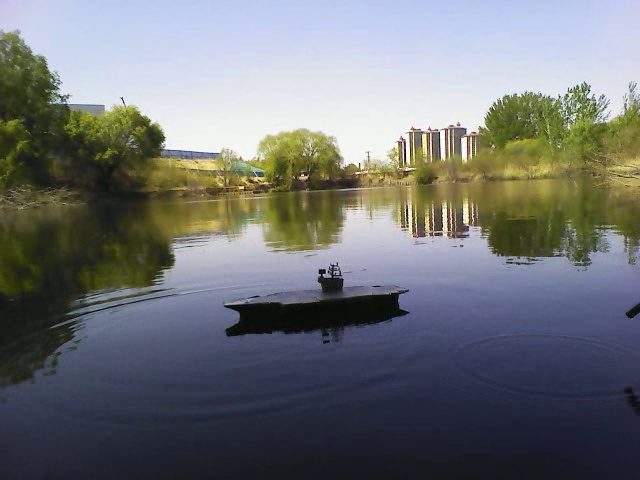aircraft_carrier: (221, 271, 415, 321)
